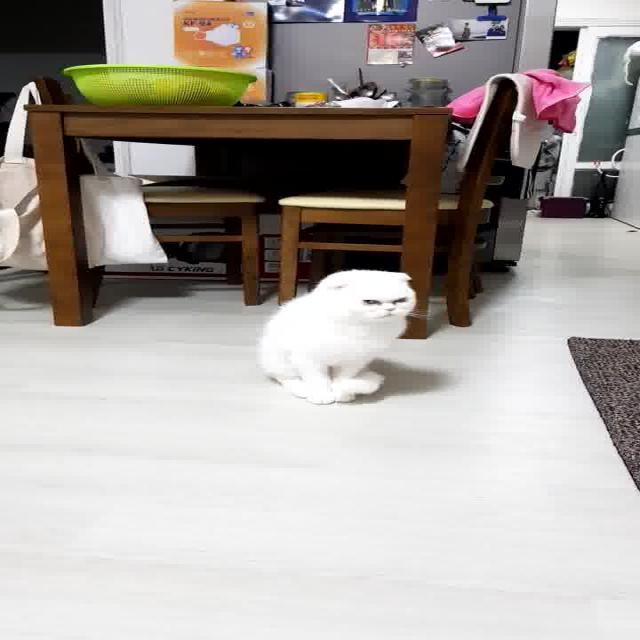cat: (249, 262, 416, 411)
